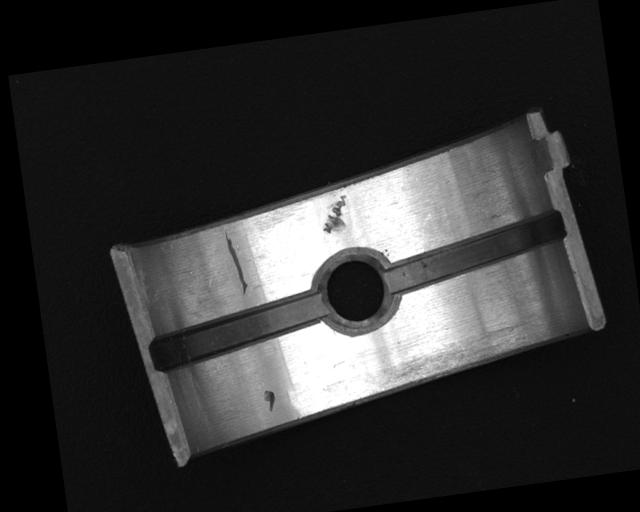bruise: (317, 194, 354, 236), (262, 388, 277, 413)
gap: (378, 210, 571, 296), (147, 292, 330, 371)
hole: (311, 248, 401, 341)
nick: (223, 227, 248, 298)
scratch: (368, 323, 529, 393)
